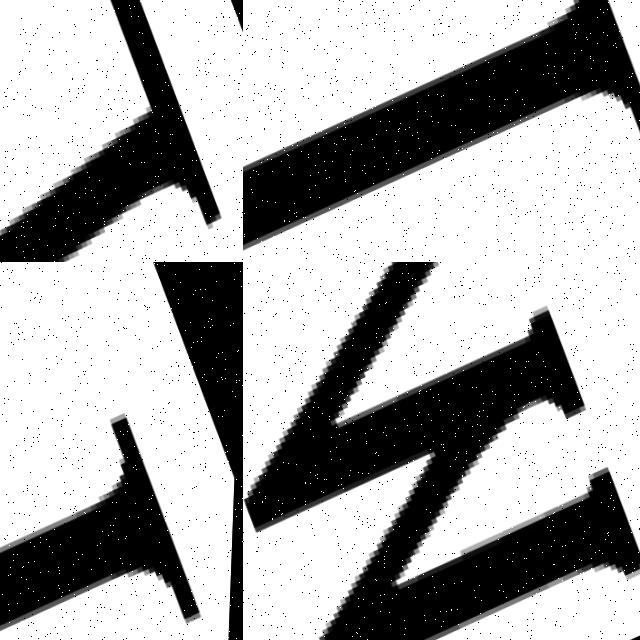E: (0, 0, 223, 262)
I: (243, 0, 640, 253)
J: (0, 409, 238, 640)
W: (243, 262, 640, 640)
